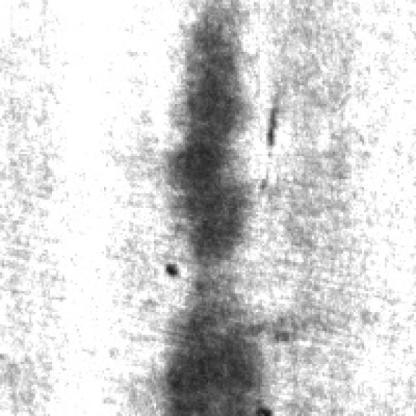patches: (175, 2, 256, 262), (162, 293, 275, 414)
